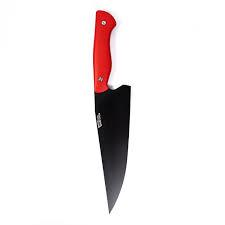Knife: (92, 9, 131, 213)
